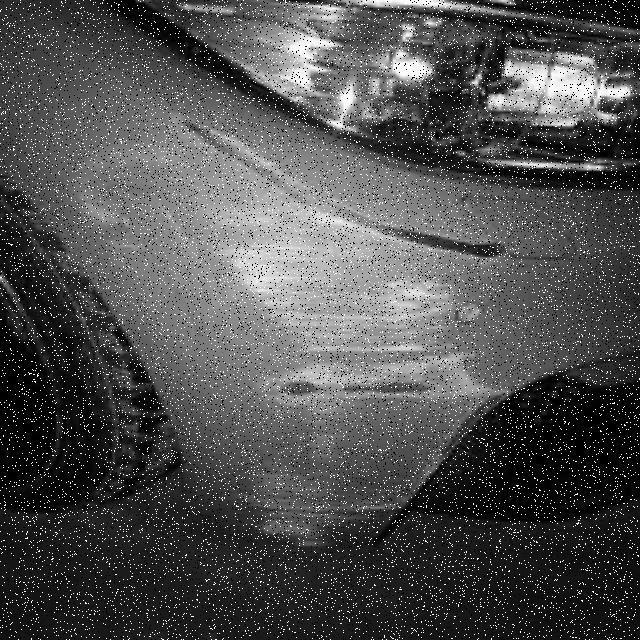front-bumper-dent: (21, 84, 598, 600)
